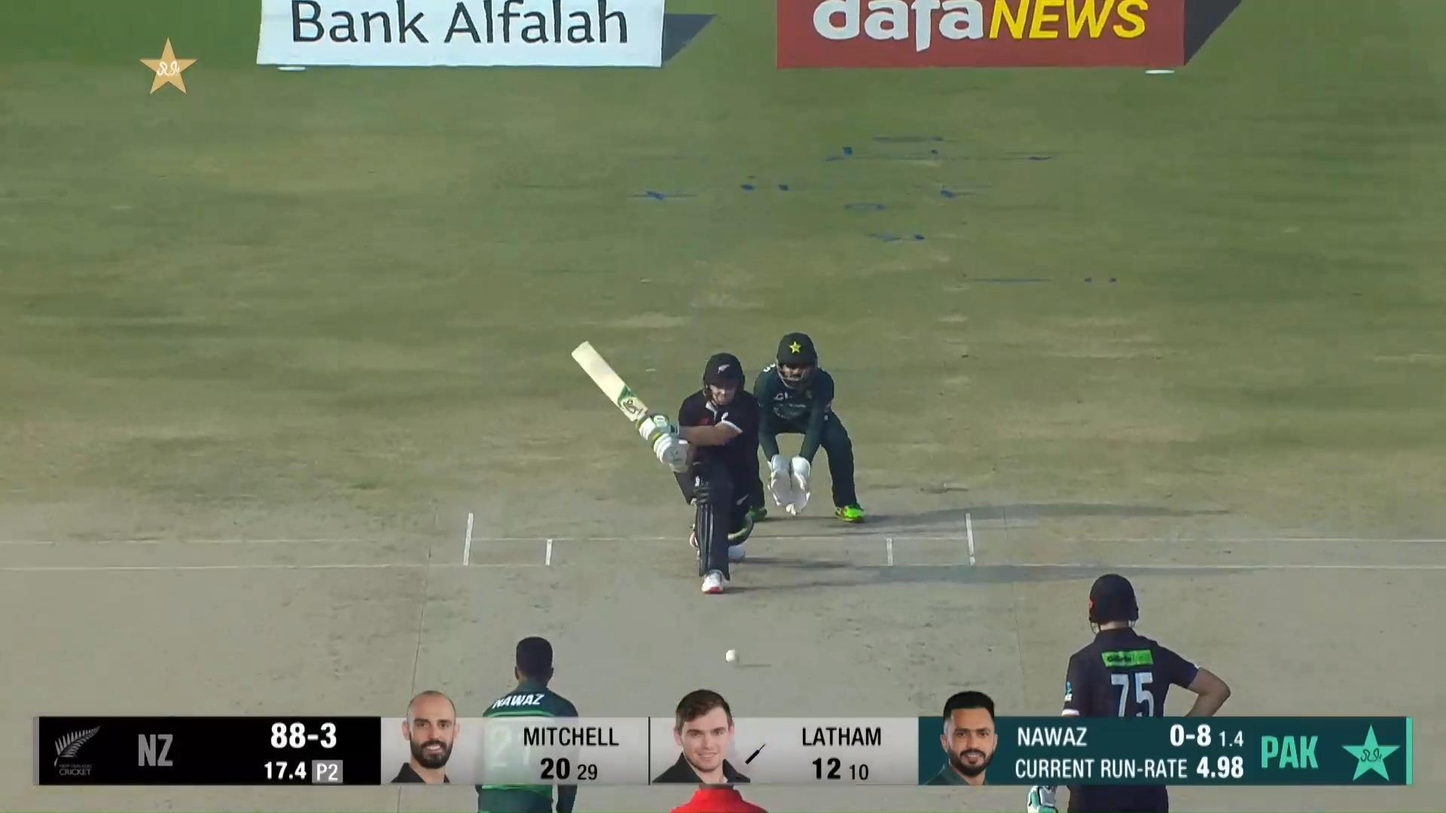BM 1: (568, 336, 763, 597)
BO: (473, 634, 582, 813)
